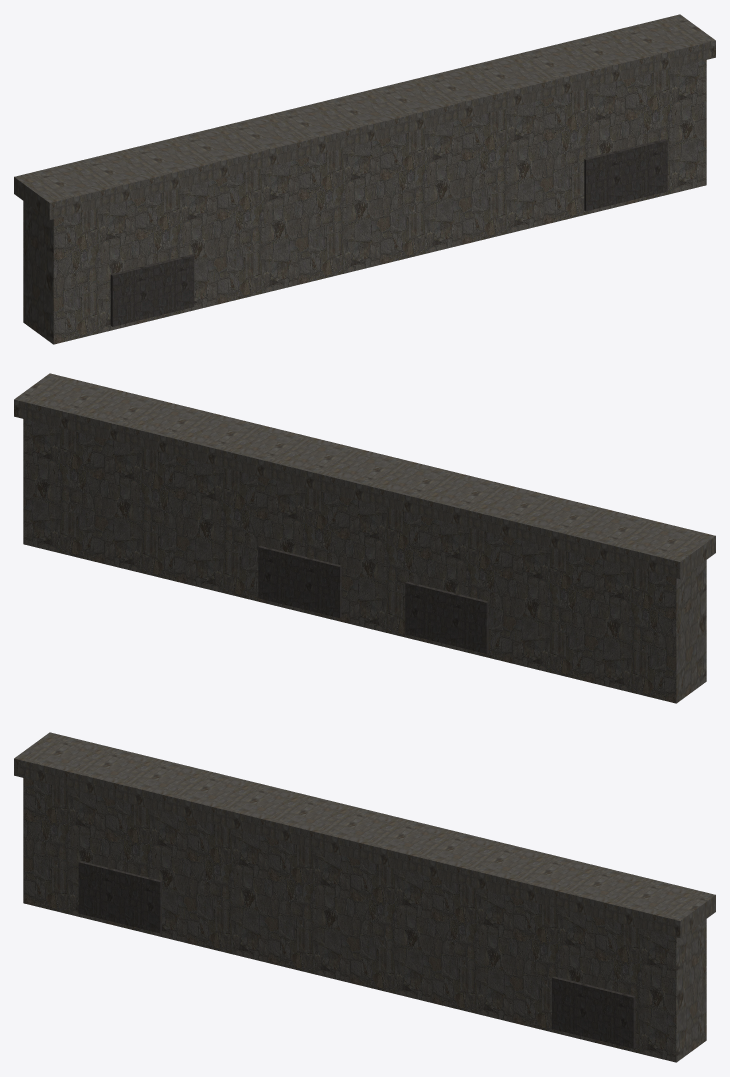
Rendered from prop_churchyard_wall.glb.
3 renders of one model, top to bottom at view 1: azimuth 30°, elevation 25°; view 2: azimuth 150°, elevation 25°; view 3: azimuth 330°, elevation 25°, orthographic.
Visible parts, largest first — view 1: prop_churchyard_wall; view 2: prop_churchyard_wall; view 3: prop_churchyard_wall.
Part boxes in pixels (x1,y1,x2,y2): prop_churchyard_wall: [14, 14, 715, 344]; prop_churchyard_wall: [14, 373, 715, 703]; prop_churchyard_wall: [14, 732, 715, 1062].
Bounding box in the file's own units: 4.08 × 0.85 × 0.38.
2 materials, 2 textured.
